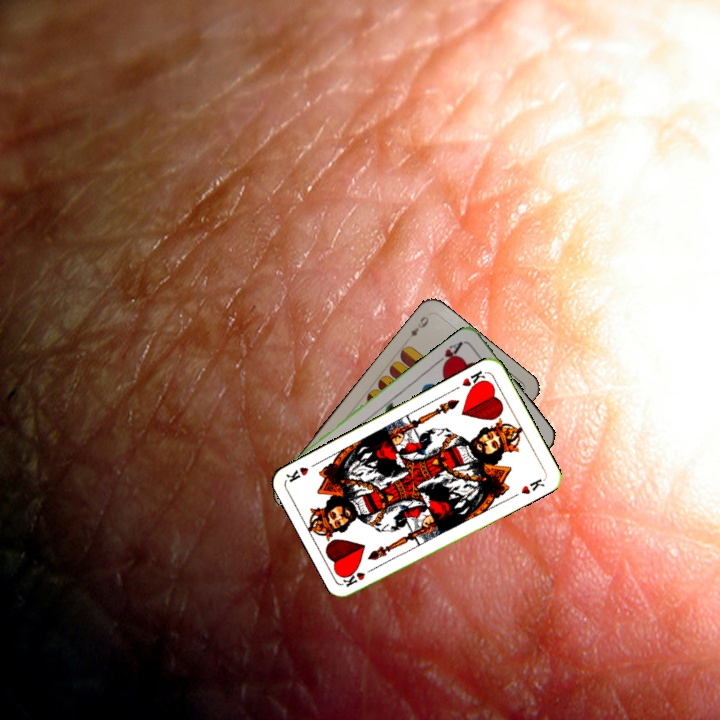E9: (406, 312, 432, 340)
HA: (431, 337, 466, 371)
HK: (340, 562, 379, 589), (458, 366, 489, 393)
